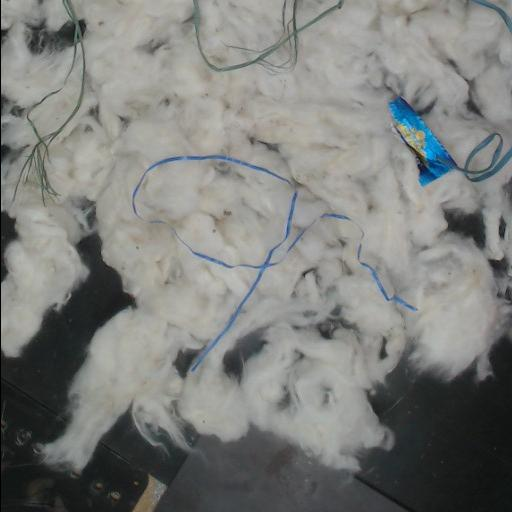conveyor belt: (360, 339, 512, 511)
cotton: (1, 0, 512, 472)
packet: (389, 98, 456, 184)
thread: (181, 189, 350, 372), (17, 25, 87, 199), (192, 0, 344, 72), (131, 156, 290, 216), (453, 113, 512, 195), (357, 245, 416, 311)
